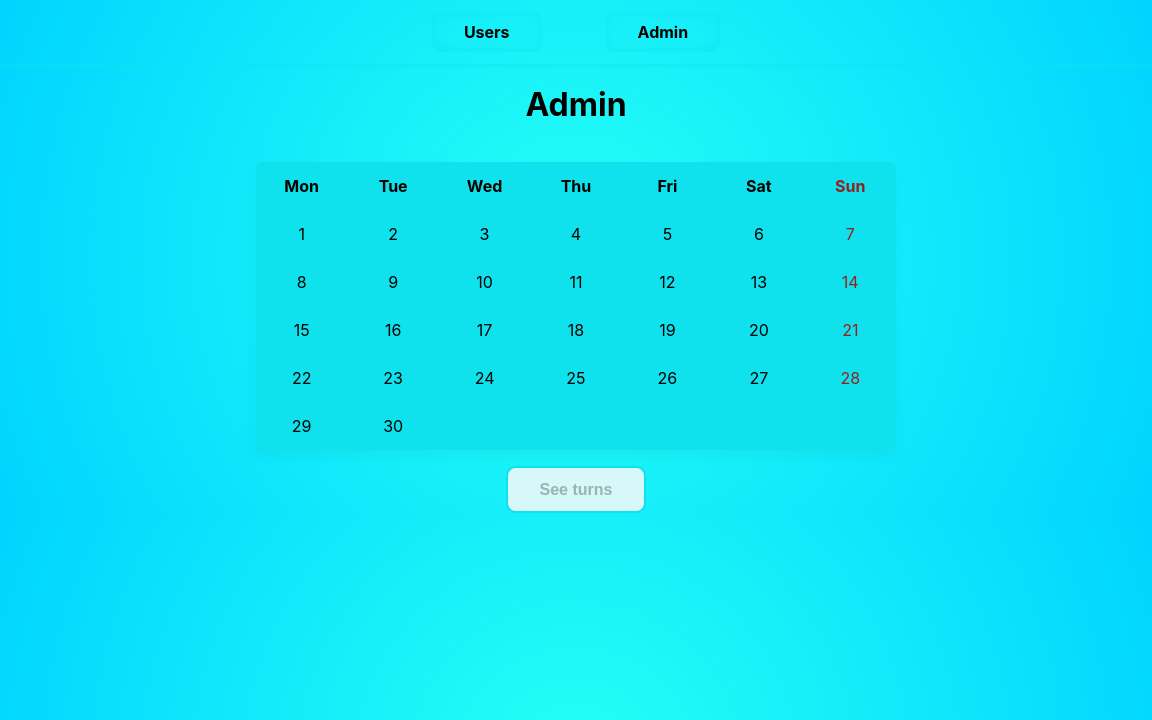
Test: Admin › empty data to show
Click the list item "2": (393, 234) [388,224,398,244]
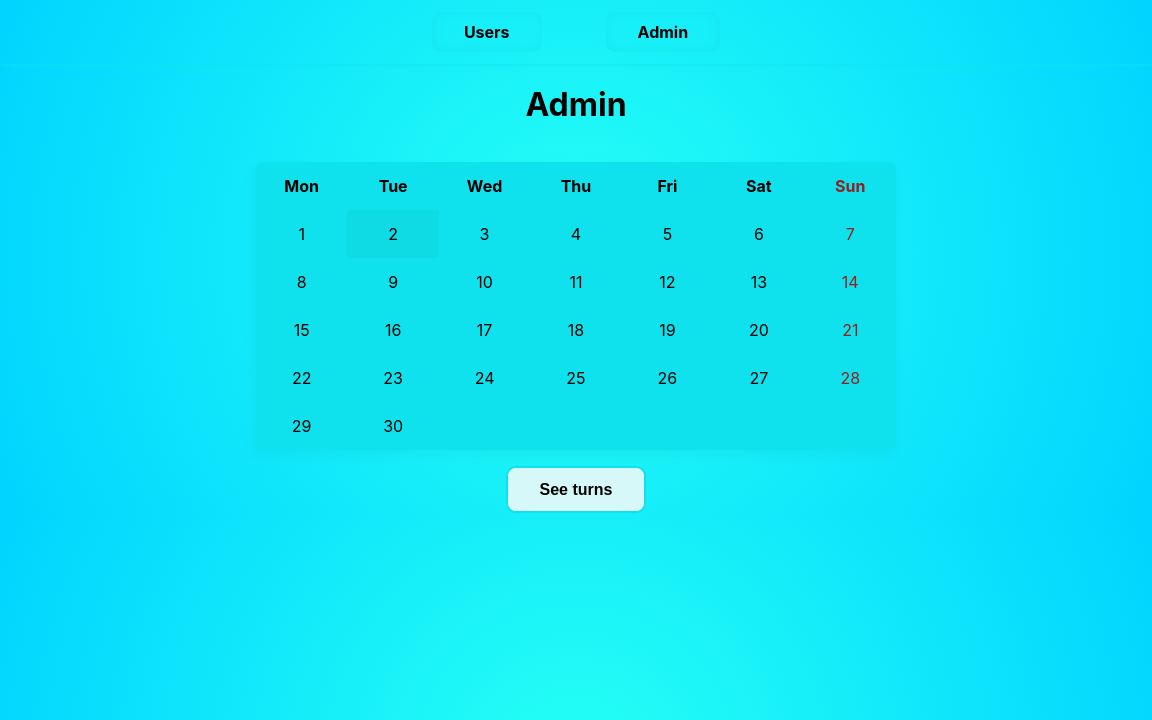
Click the button labelled "See turns": (576, 490) [506,466,646,514]
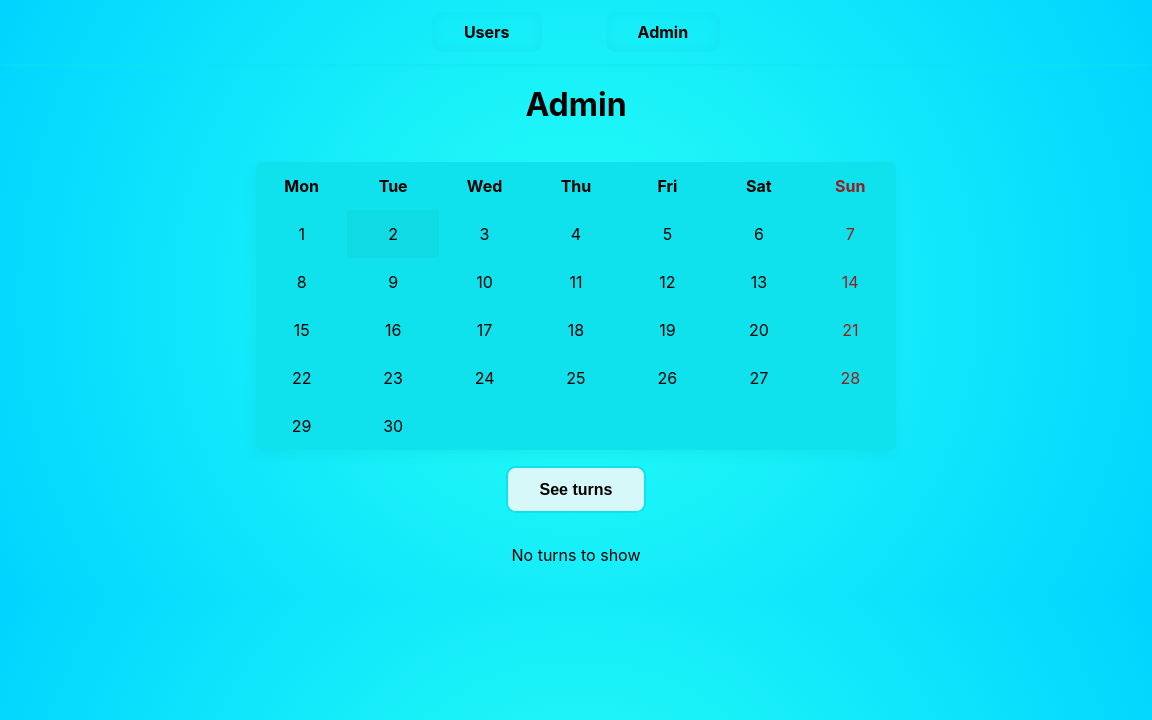
Expected: the text "No turns to show" is shown, [512,546,640,566]
